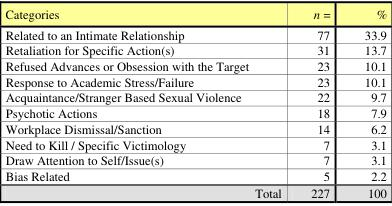table: (4, 4, 386, 200)
table column: (4, 4, 295, 200), (295, 4, 346, 200), (346, 4, 386, 200)
table column header: (4, 4, 386, 23)
table row: (4, 4, 386, 23), (4, 23, 386, 41), (4, 183, 386, 200), (4, 41, 386, 57), (4, 72, 386, 88), (4, 88, 386, 104), (4, 104, 386, 120), (4, 135, 386, 151), (4, 151, 386, 167), (4, 167, 386, 183), (4, 57, 386, 72), (4, 120, 386, 135)
